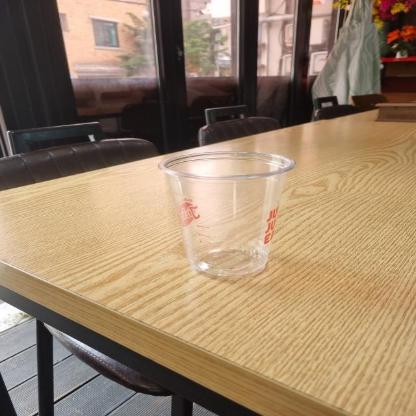Plastic Cup: (158, 149, 298, 282)
